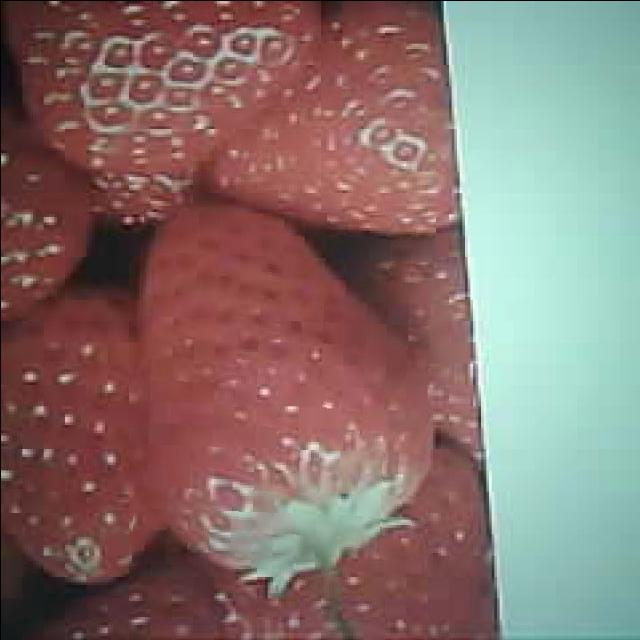strawberry: (135, 207, 433, 570)
